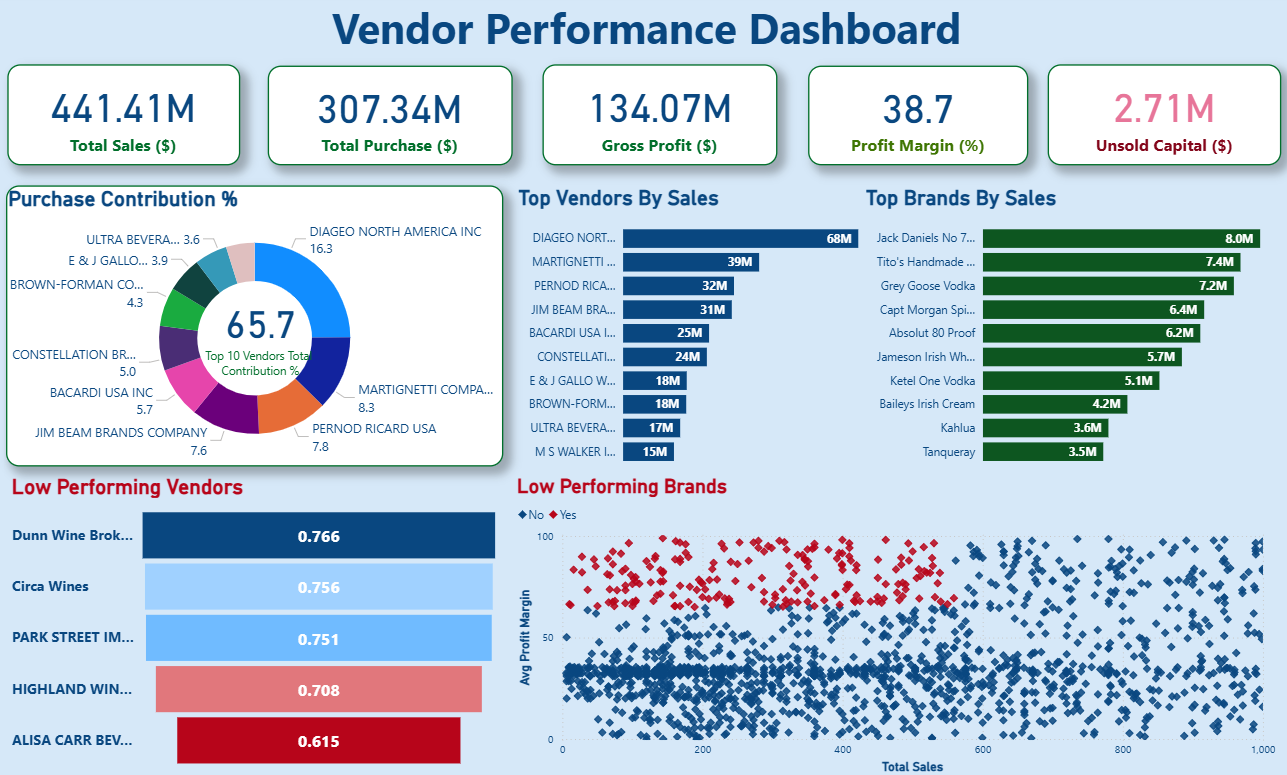

Layout of this report page (visuals, bound fields, positions):
{"tool":"powerbi","page":{"name":"Page 1","canvas":[1500,900],"ordinal":0},"visuals":[{"type":"card","fields":{"Values":["Sum(vendor_sales_summary.TotalPurchaseDollars)"]},"box":[315.8,82.4,280.9,114.6],"z":0},{"type":"card","fields":{"Values":["Sum(vendor_sales_summary.TotalSalesDollars)"]},"box":[16.8,81,266.9,116],"z":1000},{"type":"card","fields":{"Values":["Sum(vendor_sales_summary.GrossProfit)"]},"box":[630.2,81,269.7,116],"z":2000},{"type":"card","fields":{"Values":["Sum(vendor_sales_summary.ProfitMargin)"]},"box":[934.8,82.4,252.9,114.6],"z":3000},{"type":"card","fields":{"Values":["Sum(vendor_sales_summary.UnsoldCapital)"]},"box":[1210.1,81,268.3,116],"z":4000},{"type":"textbox","box":[0,0,1500,83],"z":5000},{"type":"donutChart","title":"Purchase Contribution % ","fields":{"Category":["PurchaseContribution.VendorName"],"Y":["Sum(PurchaseContribution.PurchaseContribution%)"]},"box":[14.5,219.4,571,322.6],"z":6000},{"type":"card","fields":{"Values":["Sum(PurchaseContribution.PurchaseContribution%)"]},"box":[211.8,266.7,188.2,233.3],"z":7000},{"type":"barChart","title":"Top Vendors By Sales","fields":{"Category":["vendor_sales_summary.VendorName"],"Y":["Sum(vendor_sales_summary.TotalSalesDollars)"]},"box":[597.3,219.2,447.9,332.9],"z":8000},{"type":"barChart","title":"Top Brands By Sales","fields":{"Category":["vendor_sales_summary.Description"],"Y":["Sum(vendor_sales_summary.TotalSalesDollars)"]},"box":[995.9,219.2,504.1,332.9],"z":9000},{"type":"funnel","title":"Low Performing Vendors","fields":{"Category":["LowTurnoverVendor.VendorName"],"Y":["Avg(LowTurnoverVendor.AvgStockTurnOver)"]},"box":[16.1,551.6,569.4,348.4],"z":10000},{"type":"scatterChart","title":"Low Performing Brands","fields":{"X":["Sum(BrandPerformance.TotalSales)"],"Y":["Sum(BrandPerformance.AvgProfitMargin)"],"Series":["BrandPerformance.TargetBrand"],"Category":["BrandPerformance.Description"]},"box":[596.8,551.6,880.6,348.4],"z":11000}]}

Visuals, with their boxes in screenshot pixels (x1, y1, x2, y2), scaled from the page's 1500x900 canvas onto the 1287x775 screenshot:
card - Sum(vendor_sales_summary.TotalPurchaseDollars): 271, 71, 512, 170
card - Sum(vendor_sales_summary.TotalSalesDollars): 14, 70, 243, 170
card - Sum(vendor_sales_summary.GrossProfit): 541, 70, 772, 170
card - Sum(vendor_sales_summary.ProfitMargin): 802, 71, 1019, 170
card - Sum(vendor_sales_summary.UnsoldCapital): 1038, 70, 1268, 170
textbox: 0, 0, 1286, 71
"Purchase Contribution % " donutChart: 12, 189, 502, 467
card - Sum(PurchaseContribution.PurchaseContribution%): 182, 230, 343, 431
"Top Vendors By Sales" barChart: 512, 189, 897, 475
"Top Brands By Sales" barChart: 854, 189, 1286, 475
"Low Performing Vendors" funnel: 14, 475, 502, 774
"Low Performing Brands" scatterChart: 512, 475, 1268, 774
